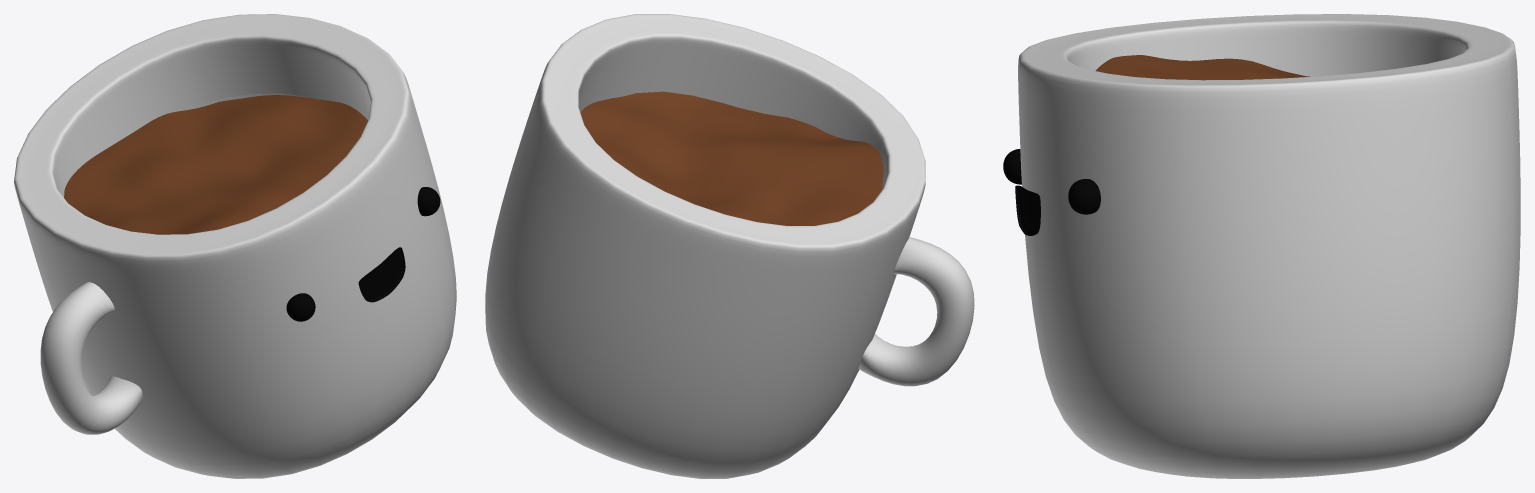
File: Lucky Mug.glb
3 views of the same model, side by side, from view 1: azimuth 30°, elevation 25°; view 2: azimuth 150°, elevation 25°; view 3: azimuth 270°, elevation 25° (orthographic). The views are drawn at different scales.
Parts seen in each view (by area): view 1: Cube_2, Plane_3, Cube.001_4, Cube.004_6, Cube.002_5, Cube.003_7; view 2: Cube_2, Plane_3, Cube.001_4; view 3: Cube_2, Plane_3, Cube.004_6, Cube.003_7.
Part boxes in pixels (left/top/right/bottom): Cube_2: left=14, top=14, right=456, bottom=478; Plane_3: left=64, top=95, right=367, bottom=234; Cube.001_4: left=40, top=282, right=142, bottom=434; Cube.004_6: left=358, top=247, right=405, bottom=302; Cube.002_5: left=286, top=293, right=315, bottom=321; Cube.003_7: left=417, top=187, right=440, bottom=216; Cube_2: left=485, top=14, right=925, bottom=478; Plane_3: left=580, top=91, right=883, bottom=225; Cube.001_4: left=858, top=237, right=974, bottom=386; Cube_2: left=1018, top=14, right=1520, bottom=478; Plane_3: left=1095, top=55, right=1309, bottom=80; Cube.004_6: left=1015, top=185, right=1040, bottom=235; Cube.003_7: left=1068, top=179, right=1100, bottom=214.
Size of the model in its own units: 2.56 by 2.15 by 2.19.
